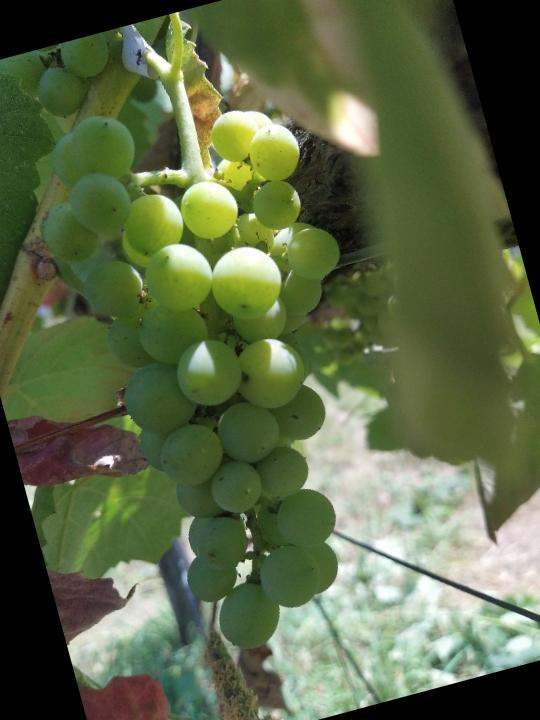grape: (9, 59, 441, 679)
